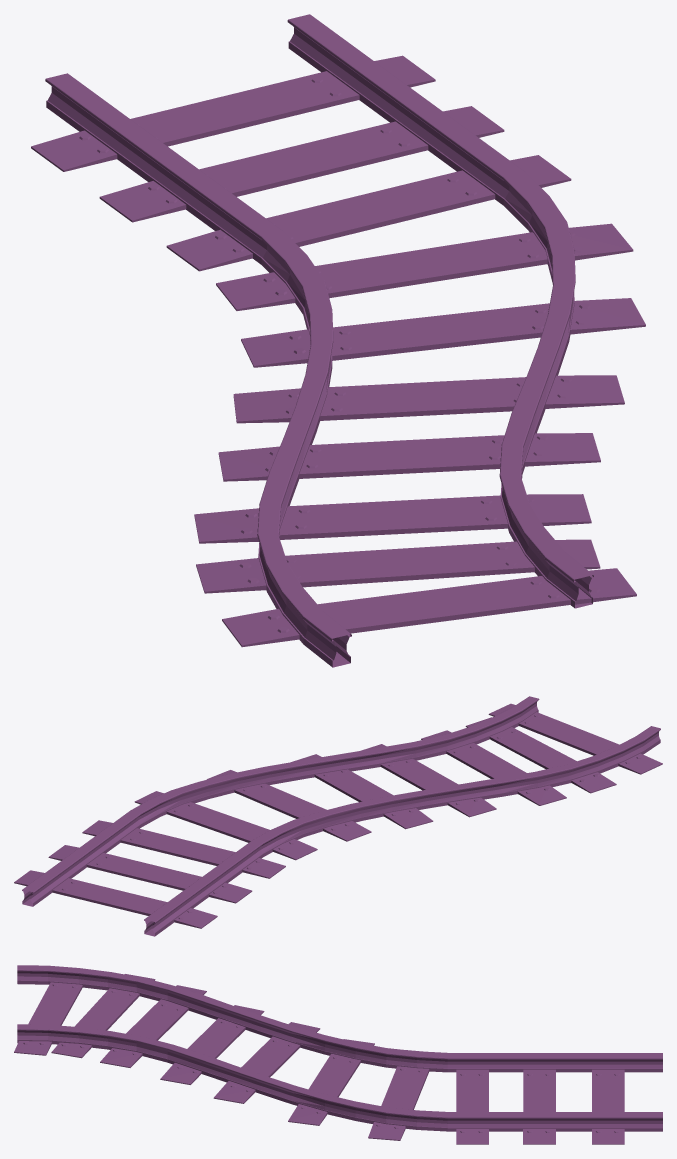
Rendered from Curvo DER-UV.fbx.
3 views of the same model, one above another, from view 1: azimuth 30°, elevation 25°; view 2: azimuth 150°, elevation 25°; view 3: azimuth 270°, elevation 25° (orthographic). The views are drawn at different scales.
Visible parts, largest first — view 1: Curvo_Derecho; view 2: Curvo_Derecho; view 3: Curvo_Derecho.
Boxes of the visible parts, x1,y1,x2,y2 form: Curvo_Derecho: (31, 14, 645, 667); Curvo_Derecho: (14, 696, 662, 936); Curvo_Derecho: (14, 965, 662, 1144).
Bounding box in the file's own units: 7.56 × 0.2888 × 11.71.
